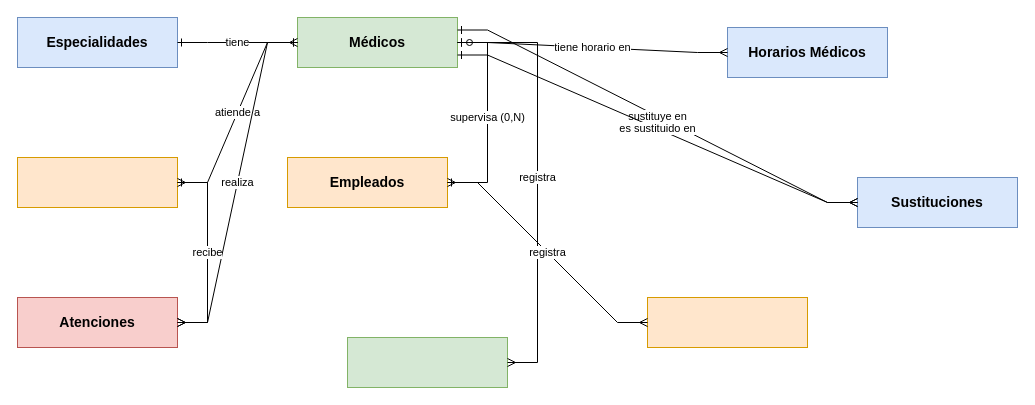
The diagram is 1035 pixels wide and 405 high, and some of its shapes have lost their labels. The shapes that lost their labels are listed below. From the top down, each one's centre as x and y in pixels, then its label:
At point 97,182: "Pacientes".
At point 727,322: "Vacaciones Empleados".
At point 427,362: "Vacaciones Médicos".
